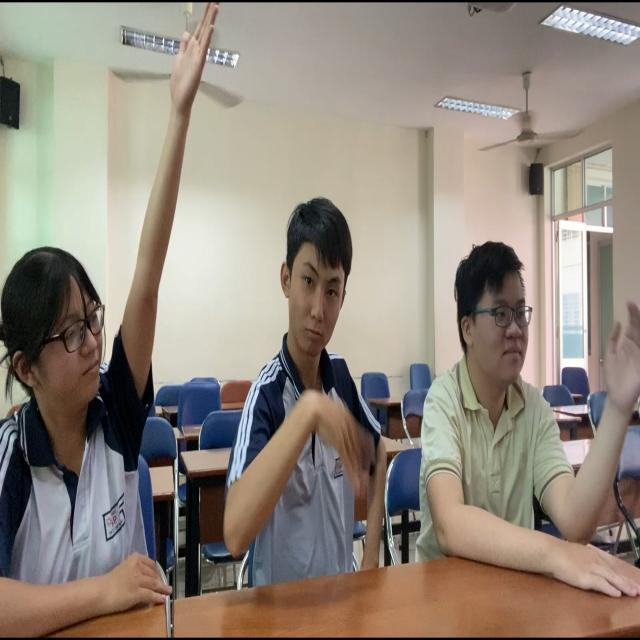raise_hand: (1, 4, 227, 640)
